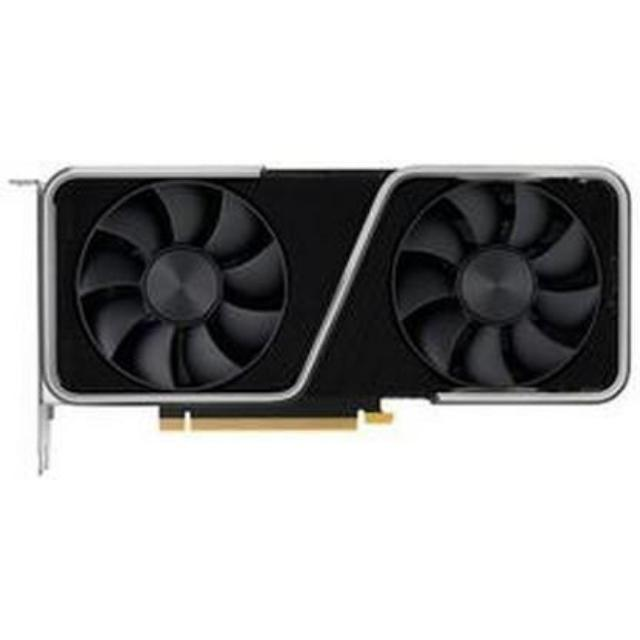GPU: (33, 161, 635, 433)
